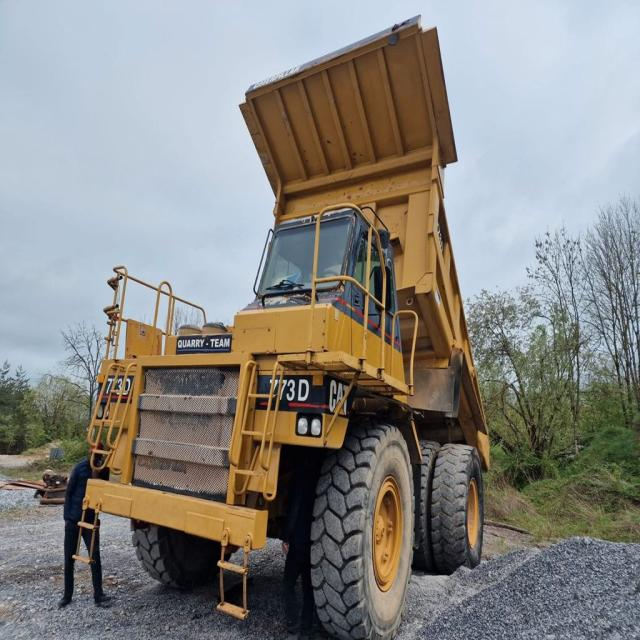dump_truck: (95, 42, 494, 637)
